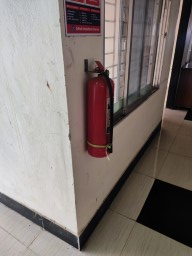fire_extinguisher: (44, 103, 119, 143)
